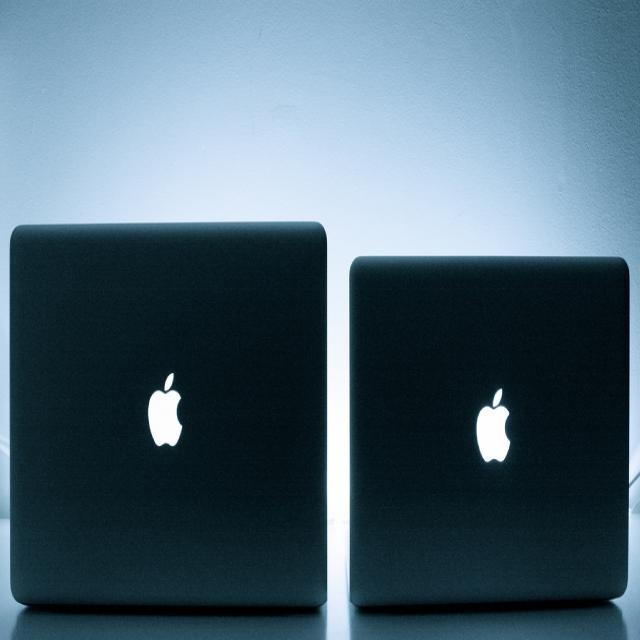apple: (144, 365, 188, 455), (473, 385, 516, 471)
